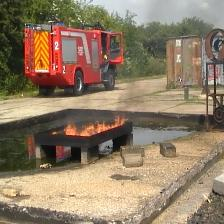fire: (64, 116, 127, 137)
